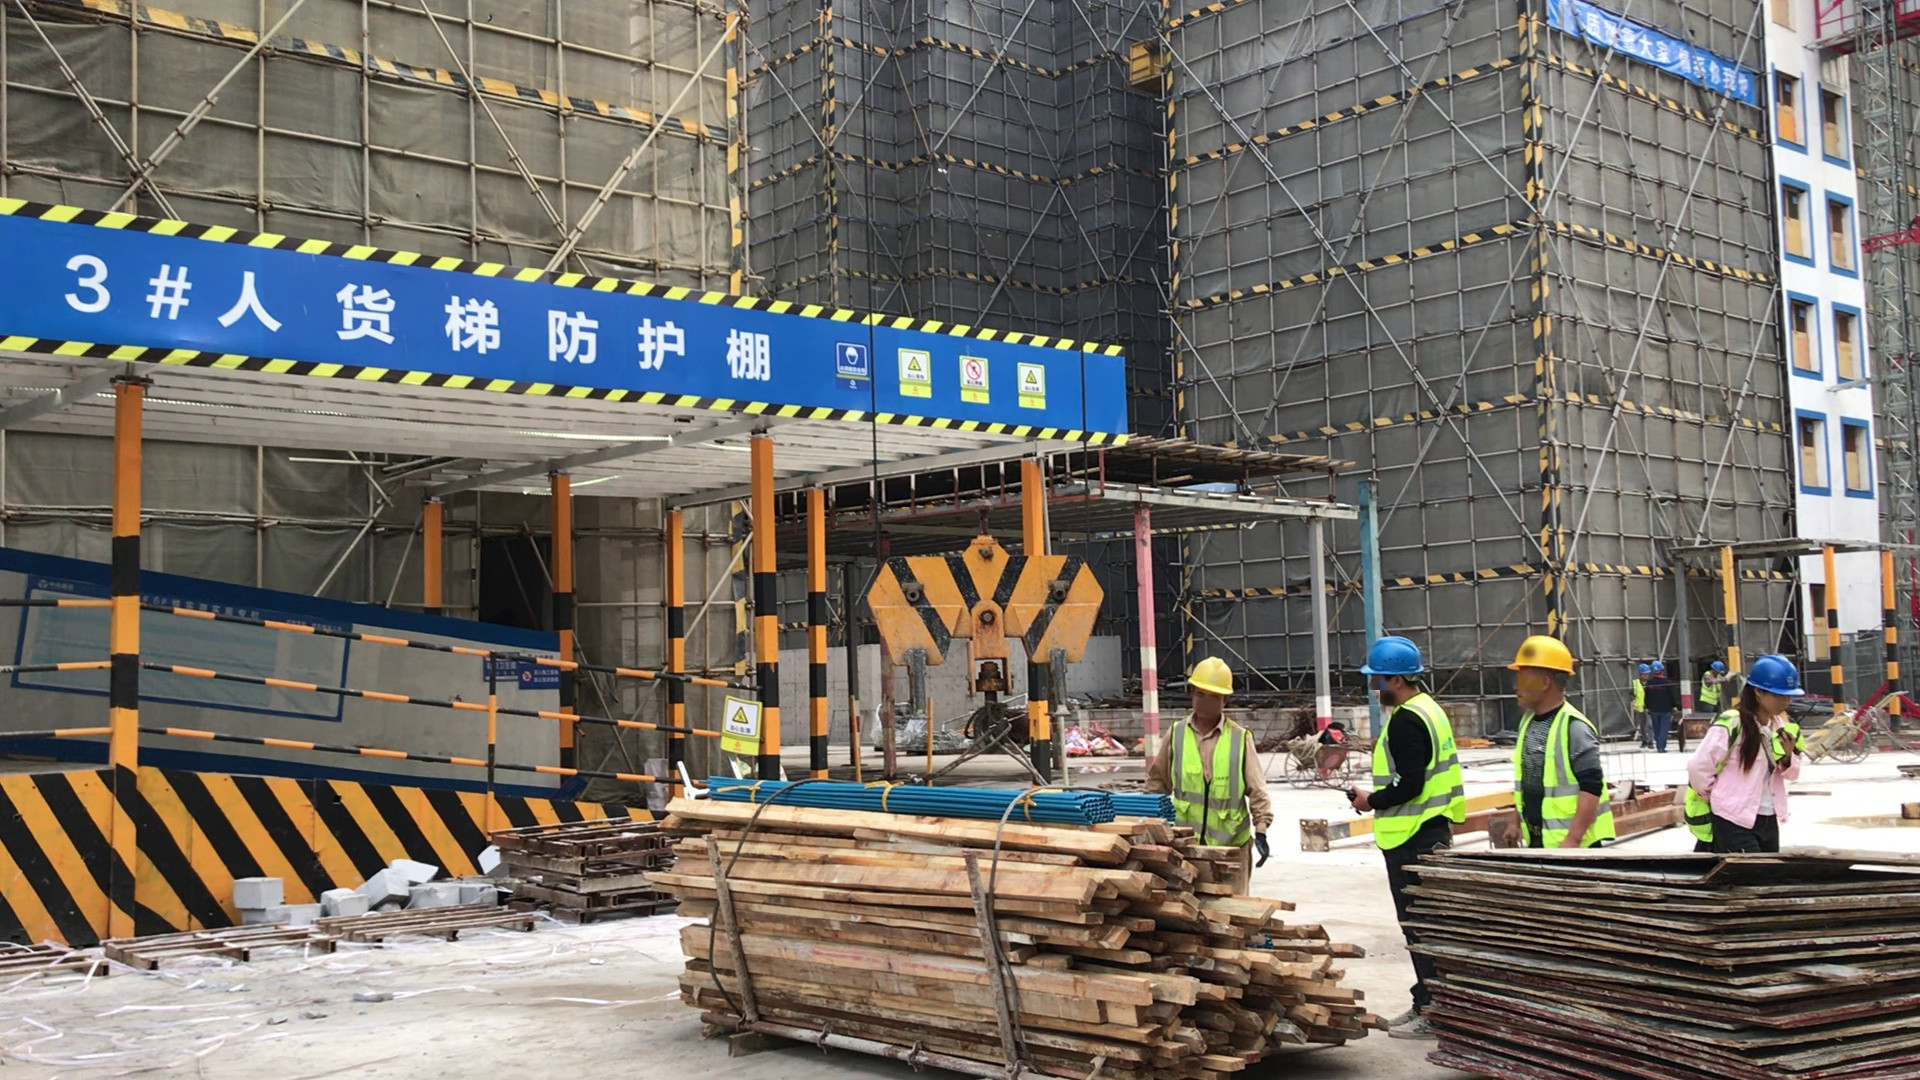helmet: (1745, 654, 1811, 700), (1510, 633, 1574, 674), (1360, 635, 1422, 675), (1184, 652, 1230, 695), (1709, 660, 1723, 673), (1651, 662, 1665, 674), (1637, 664, 1650, 674)
person: (1352, 637, 1466, 1045), (1489, 628, 1630, 861), (1144, 650, 1275, 864), (1682, 657, 1808, 856), (1649, 660, 1676, 754), (1626, 661, 1652, 746), (1697, 659, 1730, 713)
vest: (1515, 706, 1607, 854), (1367, 697, 1461, 840), (1169, 716, 1251, 848), (1700, 673, 1719, 707), (1633, 679, 1649, 712)
